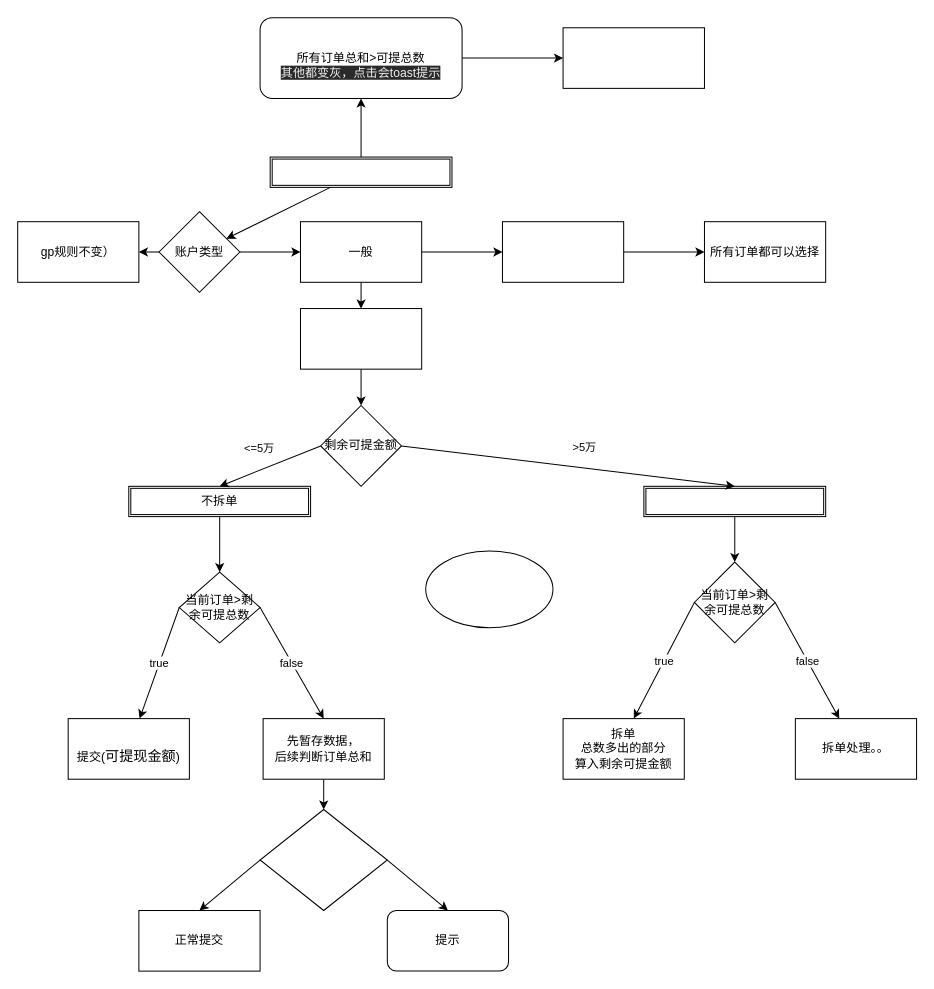
Some shapes in this 934 by 989 pixel diagram are drawn without their labels. Each missing label, with the centre of its shape:
"所选订单总和<=5万" belongs at point (323, 860).
"拆-订单" belongs at point (489, 589).
"拆单" belongs at point (734, 501).
"收款账户 人民币" belongs at point (360, 338).
"收款账户 美元" belongs at point (562, 251).
"有拆单就展示拆单提示" belongs at point (633, 57).
"选择订单" belongs at point (360, 171).
